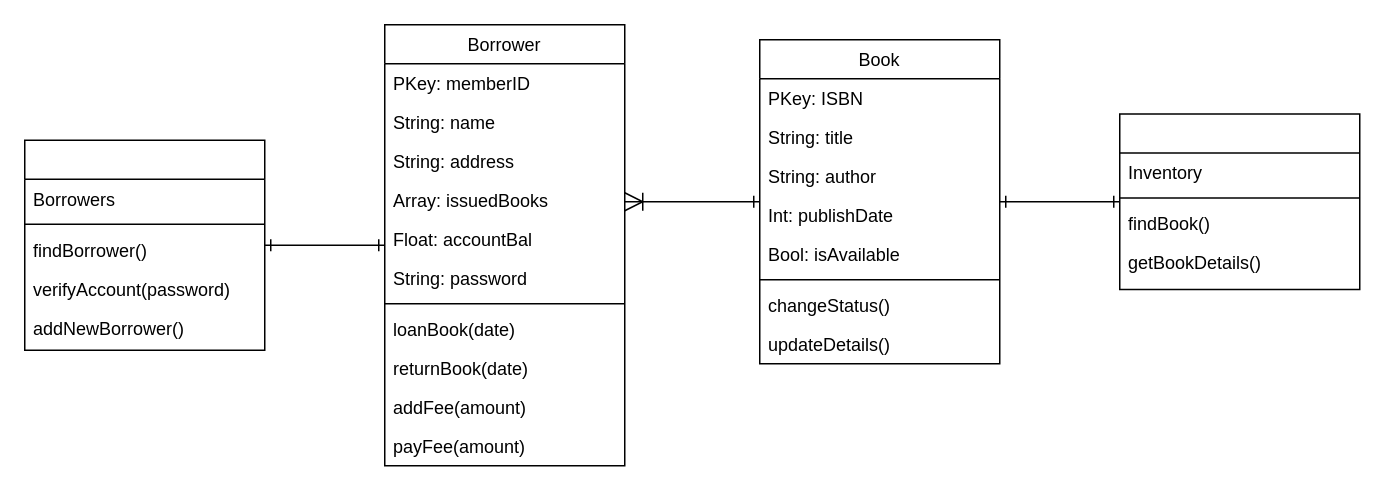
Some shapes in this 1385 by 491 pixel diagram are drawn without their labels. Here are the shapes that lost their labels. From the top down, the box of each, then its label:
(1118, 112, 1360, 290): Book Database
(23, 139, 265, 350): Borrower Database
